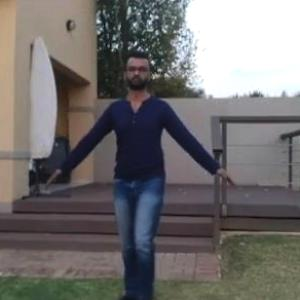land: (68, 62, 240, 299)
